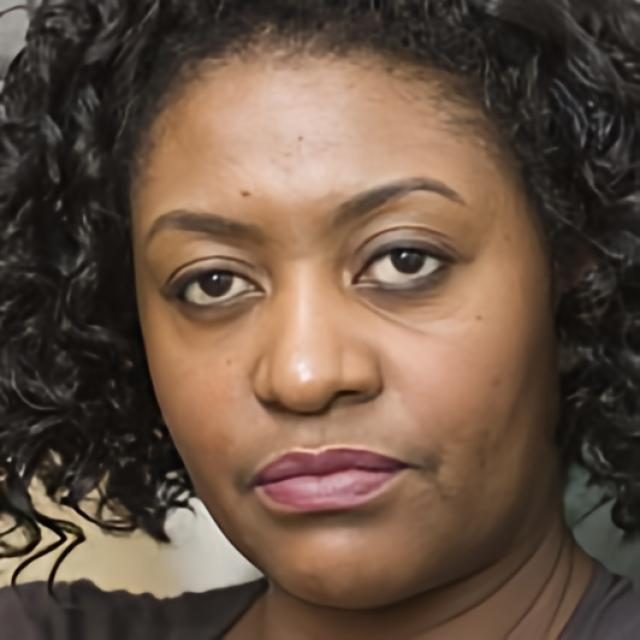neutral: (126, 26, 562, 612)
